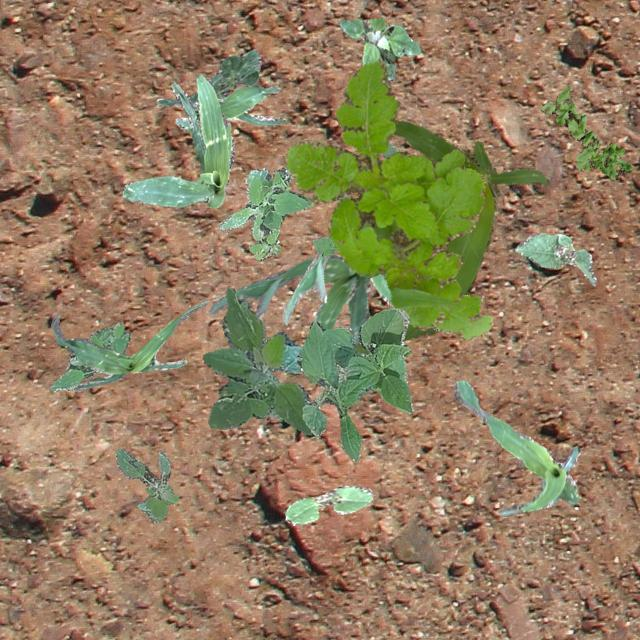crop: (310, 119, 550, 354), (296, 308, 412, 461), (452, 380, 578, 514), (202, 286, 310, 434), (122, 74, 234, 206), (208, 254, 368, 342), (50, 300, 206, 390), (156, 72, 288, 132), (282, 254, 392, 324), (514, 232, 596, 284), (284, 484, 372, 524), (66, 324, 114, 379), (212, 48, 260, 98)
weed: (284, 59, 492, 340), (312, 142, 399, 256), (540, 84, 632, 178), (218, 166, 312, 258), (49, 320, 130, 390), (338, 17, 420, 80), (114, 448, 178, 522)
